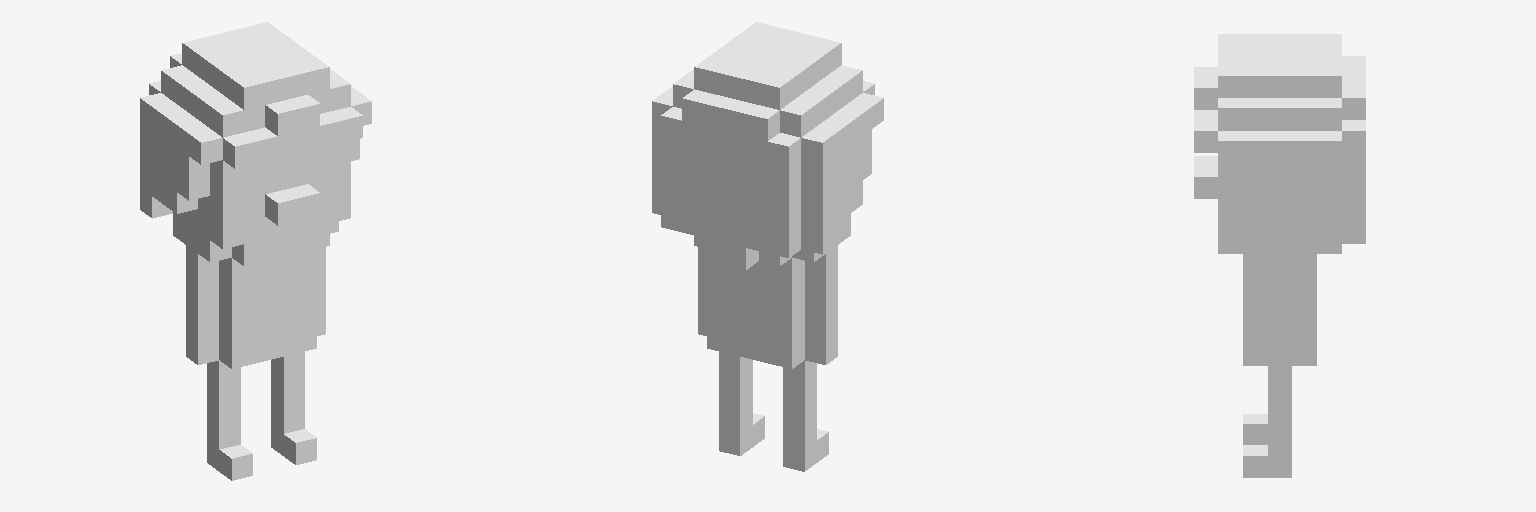
Rendered from Runner.obj.
The picture shows the model from 3 angles: view 1: azimuth 30°, elevation 25°; view 2: azimuth 150°, elevation 25°; view 3: azimuth 270°, elevation 25°; orthographic projection.
Bounding box in the file's own units: 8 × 18 × 7.